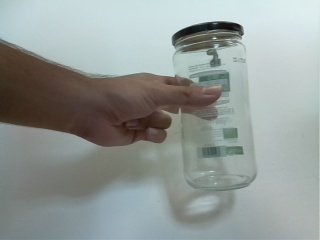pote cristal: (169, 20, 263, 194)
